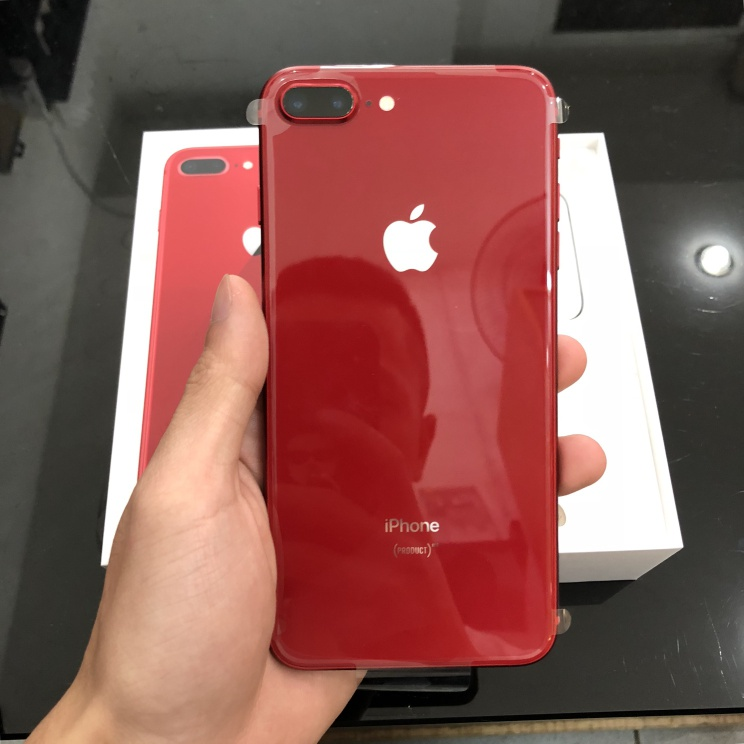apple: (370, 196, 454, 286)
